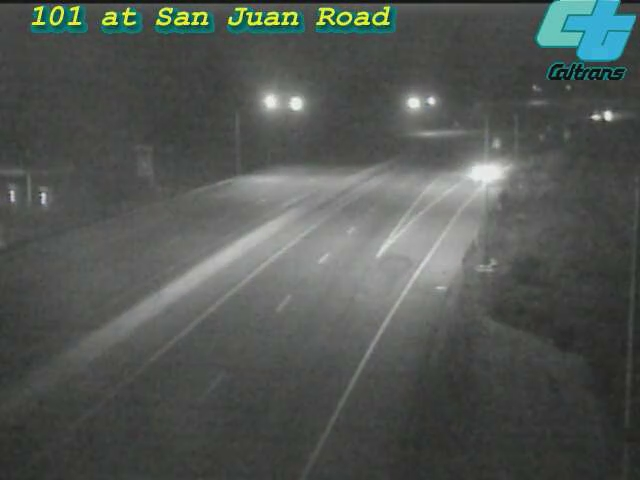vehicle: (448, 130, 528, 210), (579, 90, 629, 140)
